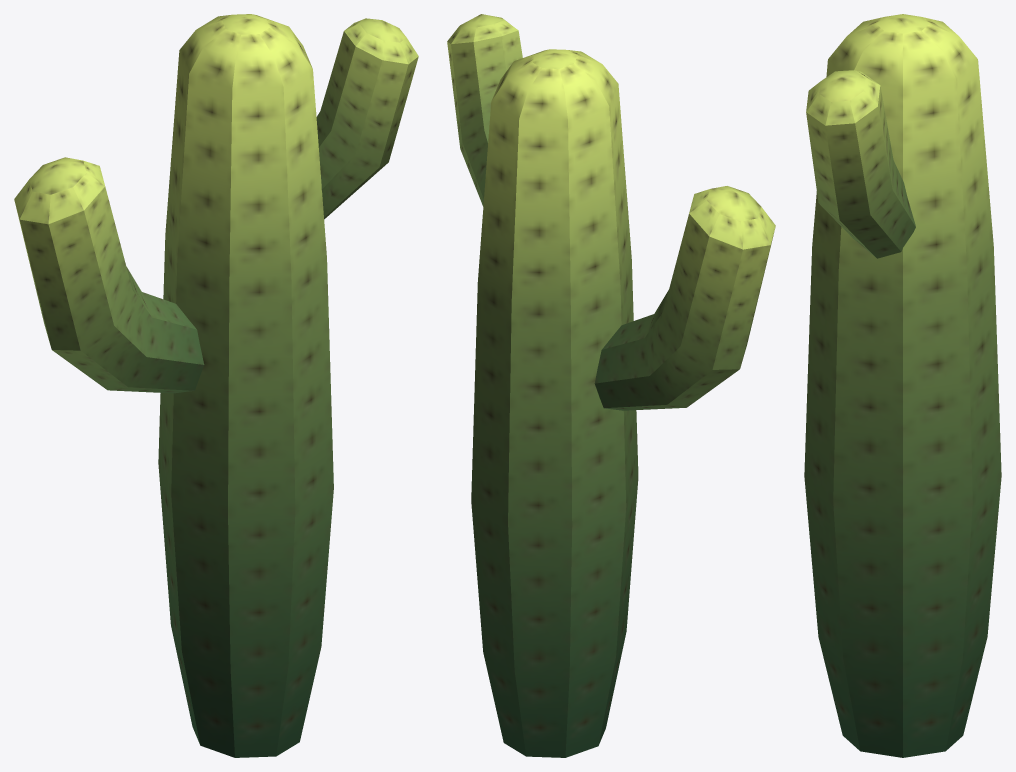
File: Cactus_02.fbx
The picture shows the model from 3 angles, left to right: view 1: azimuth 30°, elevation 25°; view 2: azimuth 150°, elevation 25°; view 3: azimuth 270°, elevation 25°; orthographic projection. The views are drawn at different scales.
Parts seen in each view (by area): view 1: Cactus_02; view 2: Cactus_02; view 3: Cactus_02.
Boxes of the visible parts, bbox=[...] form: Cactus_02: bbox=[14, 14, 418, 757]; Cactus_02: bbox=[447, 14, 775, 757]; Cactus_02: bbox=[804, 14, 1001, 757].
Bounding box in the file's own units: 1314 × 2470 × 616.
